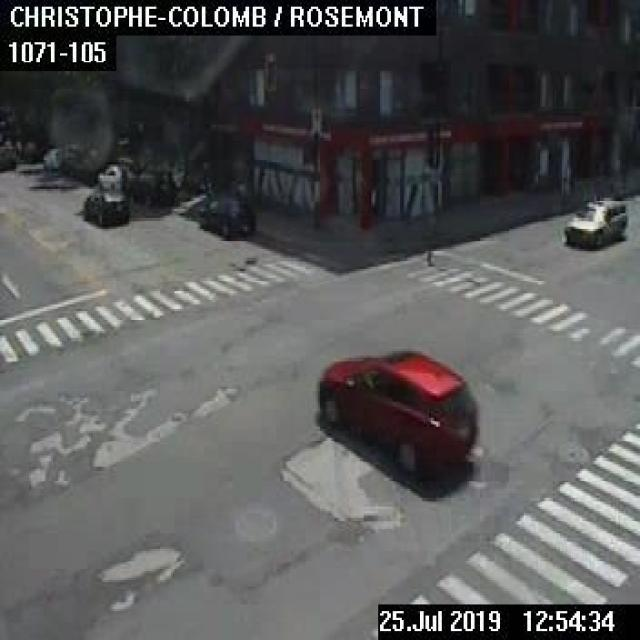vehicle: (317, 349, 477, 475), (562, 196, 626, 247), (198, 193, 253, 236), (82, 185, 127, 227), (97, 163, 126, 187)
